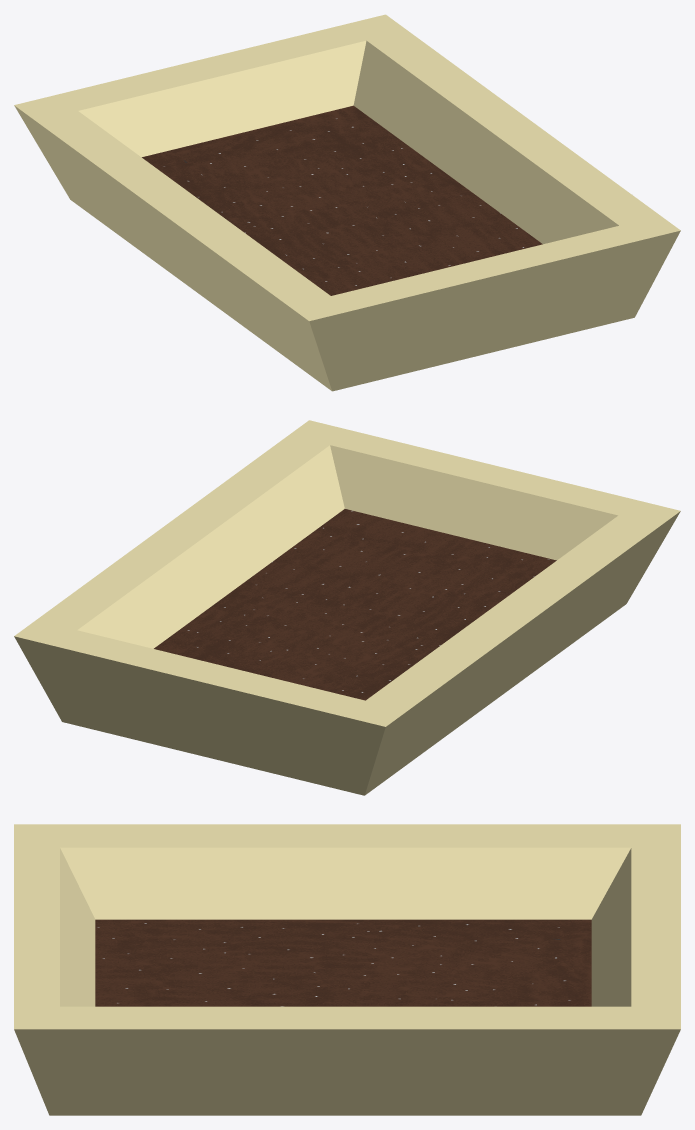
Rendered from cropbed_embeded.fbx.
3 renders of one model, top to bottom at view 1: azimuth 30°, elevation 25°; view 2: azimuth 150°, elevation 25°; view 3: azimuth 270°, elevation 25°, orthographic. The views are drawn at different scales.
Visible parts, largest first — view 1: crop_bed; view 2: crop_bed; view 3: crop_bed.
Boxes of the visible parts, x1=… form: crop_bed: x1=14, y1=14, x2=680, y2=391; crop_bed: x1=14, y1=420, x2=680, y2=795; crop_bed: x1=14, y1=824, x2=680, y2=1115.
Bounding box in the file's own units: 12.29 × 2.88 × 16.9.
Materials: 1 (1 with a texture image).
